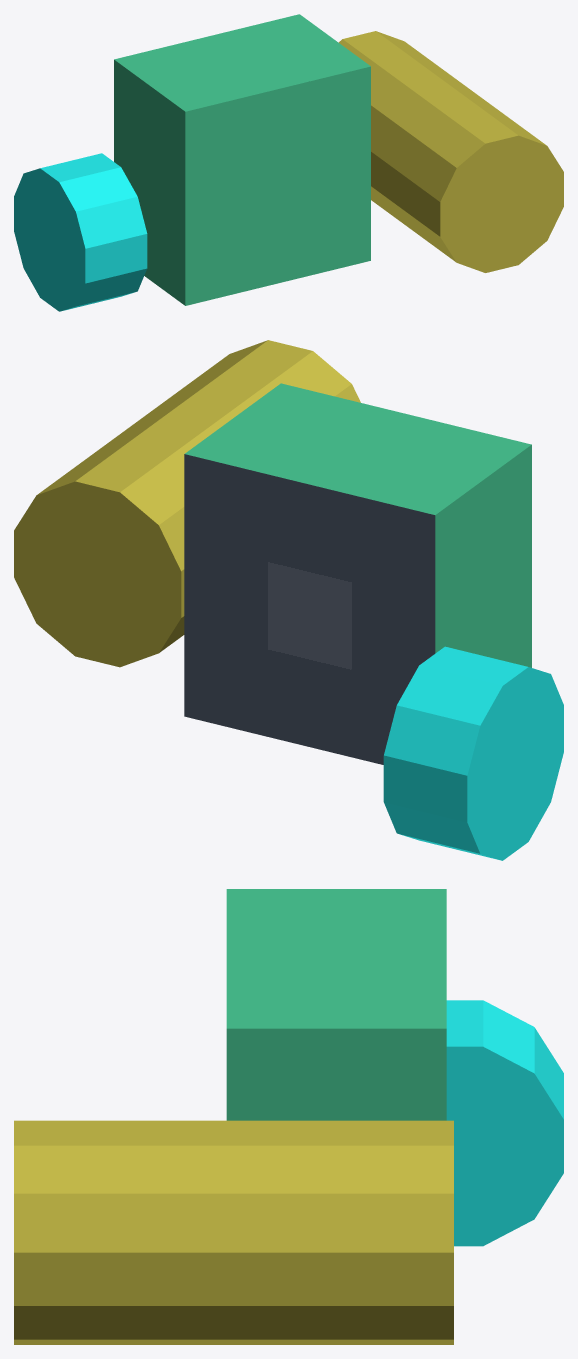
Rendered from server.gltf.
3 views of the same model, one above another, from view 1: azimuth 30°, elevation 25°; view 2: azimuth 150°, elevation 25°; view 3: azimuth 270°, elevation 25° (orthographic). The views are drawn at different scales.
Visible parts, largest first — view 1: cube; view 2: cube; view 3: cube.
Part boxes in pixels (bbox=[...]): cube: bbox=[14, 14, 563, 311]; cube: bbox=[14, 340, 563, 860]; cube: bbox=[14, 889, 563, 1344].
Bounding box in the file's own units: 3 × 1.79 × 2.5.
1 material, 1 textured.
